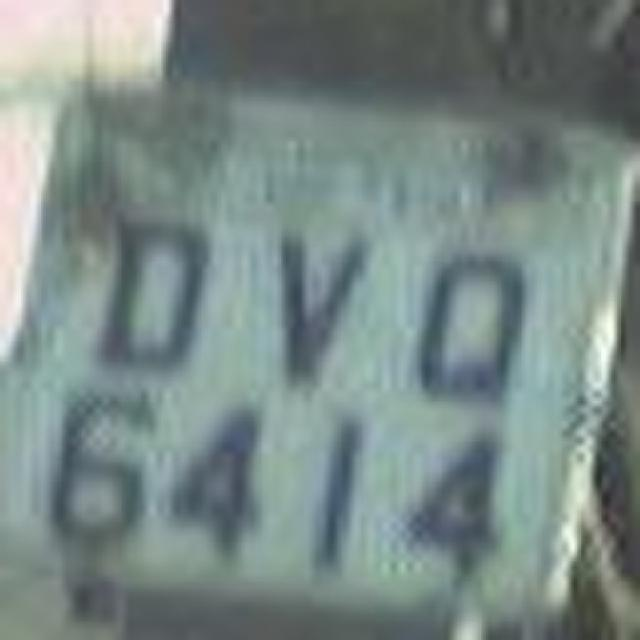1: (292, 404, 368, 576)
4: (145, 372, 280, 572), (388, 400, 512, 608)
6: (24, 356, 164, 569)
Y: (236, 200, 389, 400)
